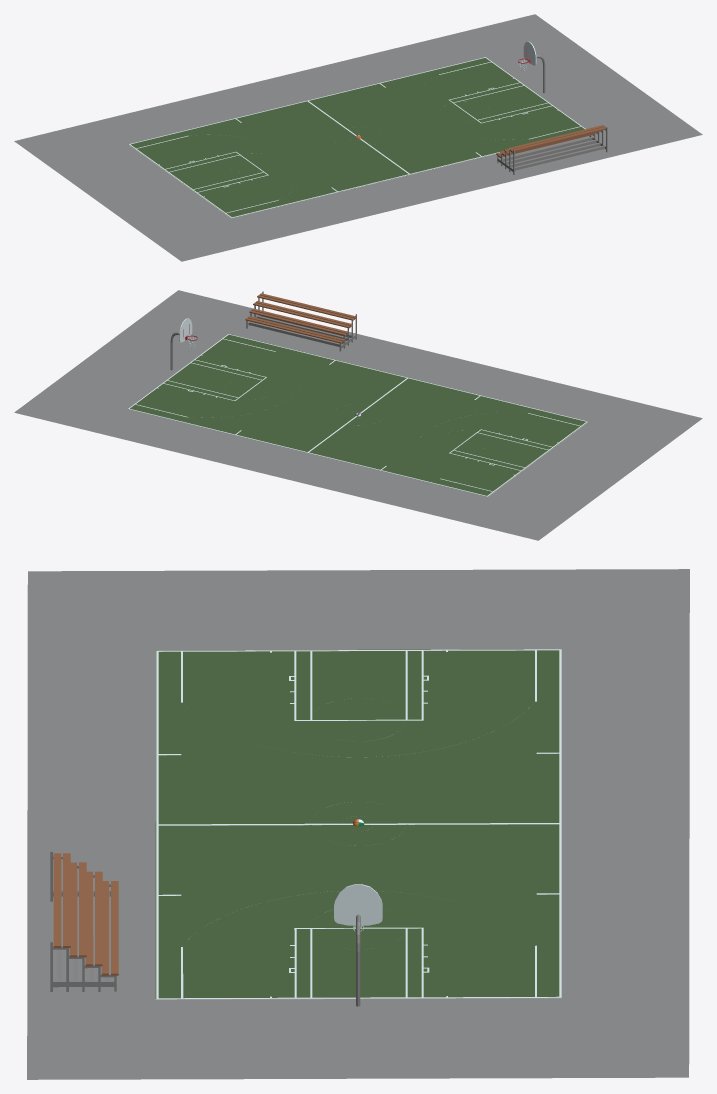
File: BasketballCourt.glb
The picture shows the model from 3 angles, top to bottom: view 1: azimuth 30°, elevation 25°; view 2: azimuth 150°, elevation 25°; view 3: azimuth 270°, elevation 25°; orthographic projection. The views are drawn at different scales.
Parts seen in each view (by area): view 1: ground, line, seat, stands; view 2: ground, seat, line, stands; view 3: ground, seat, line, stands.
Part boxes in pixels (bbox=[...]): ground: bbox=[14, 14, 702, 261]; line: bbox=[129, 57, 585, 218]; seat: bbox=[496, 125, 607, 174]; stands: bbox=[518, 41, 545, 93]; ground: bbox=[14, 290, 702, 540]; seat: bbox=[245, 291, 356, 351]; line: bbox=[128, 334, 587, 496]; stands: bbox=[170, 318, 197, 370]; ground: bbox=[27, 569, 689, 1079]; seat: bbox=[50, 851, 118, 991]; line: bbox=[156, 649, 561, 999]; stands: bbox=[334, 884, 382, 1006].
Size of the model in its own units: 47.38 by 5.63 by 25.98.
